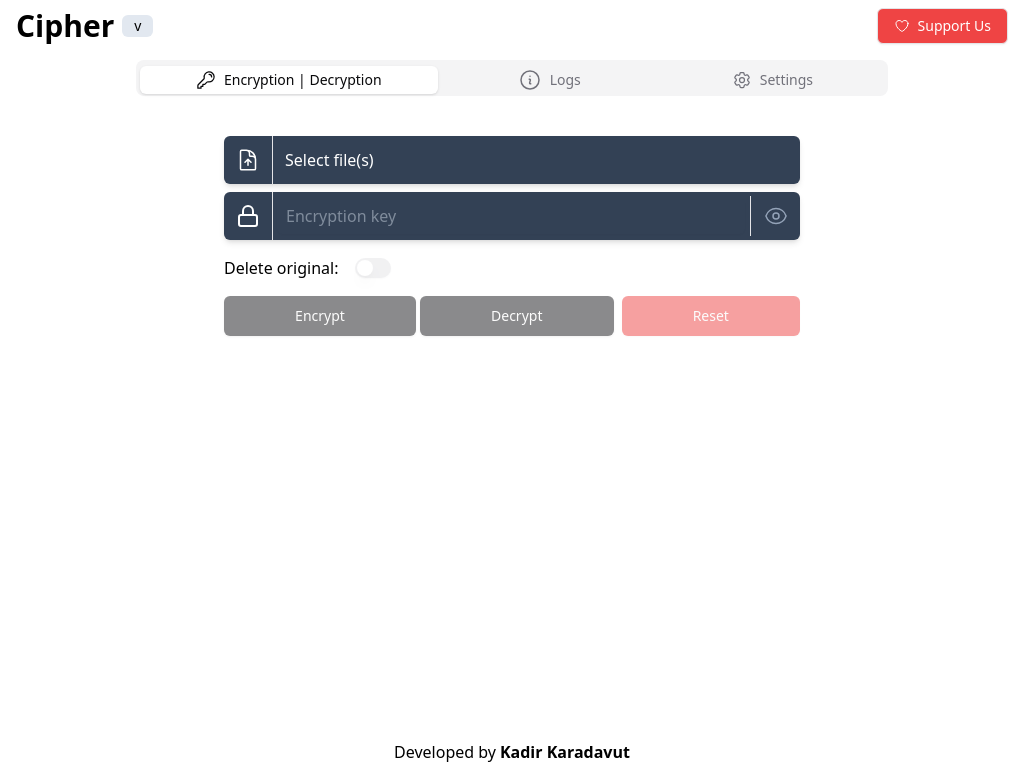
Tauri + React App › should validate header
Check: the link "Cipher" is shown, box [16,8,114,44]
Click the button "Support Us": [943, 26] box [877,8,1009,44]
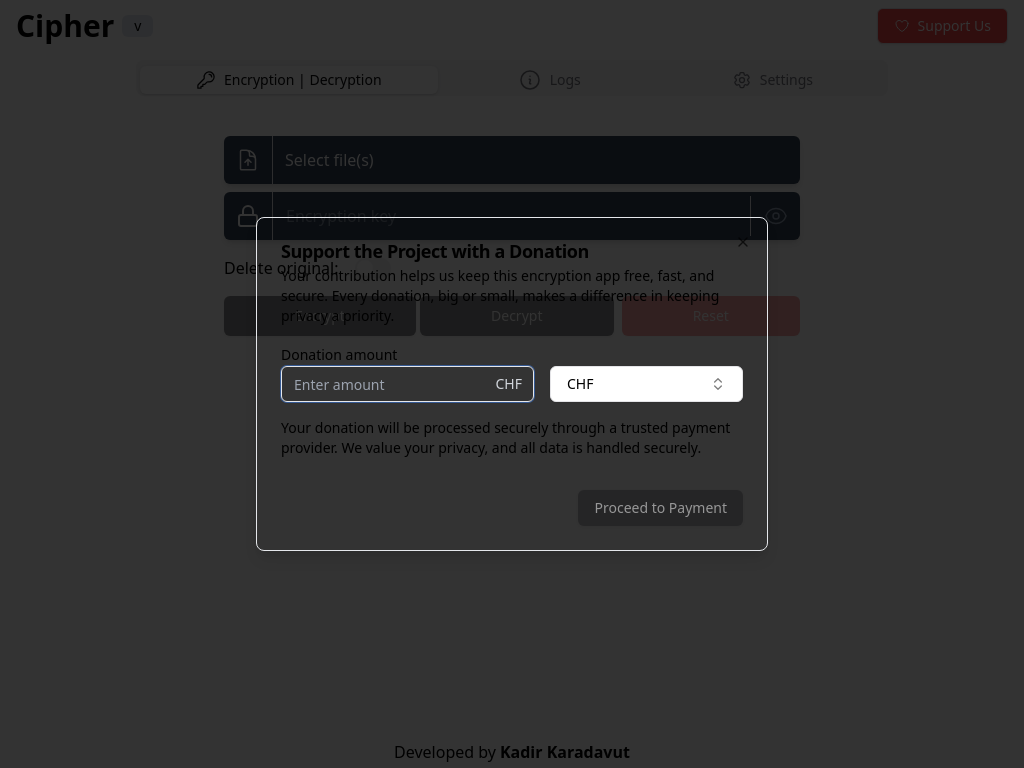
Check: the dialog is shown, box [256,217,768,551]
Click the 1st button with class "absolute": [743, 242] box [735,234,751,250]
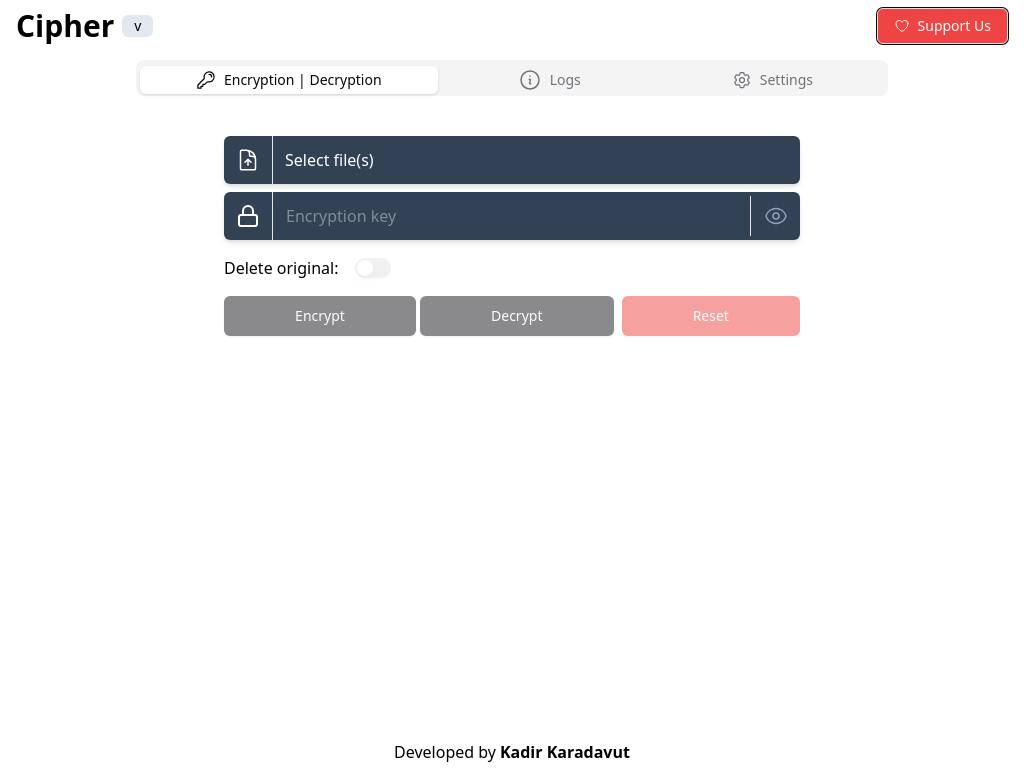
Check: the dropdown is gone
